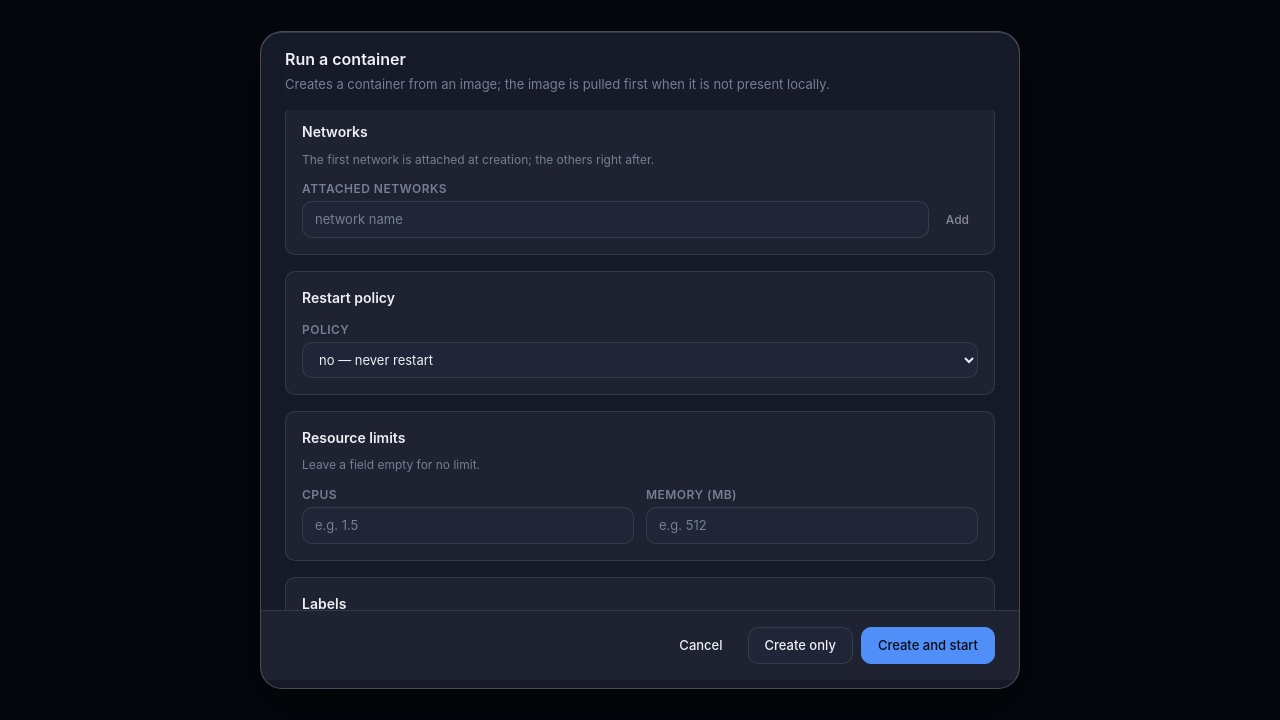
Test: ContainerCreateForm — configuration coverage (plan-docker_management_app/REQ-27) › offers a maximum-retries field only for the on-failure restart policy
The width and height of the screenshot is (1280, 720).
(page scrolled)
Select "on-failure — restart on a non-zero exit" in the dropdown named "Restart policy": (640, 360) x1=302 y1=342 x2=978 y2=378
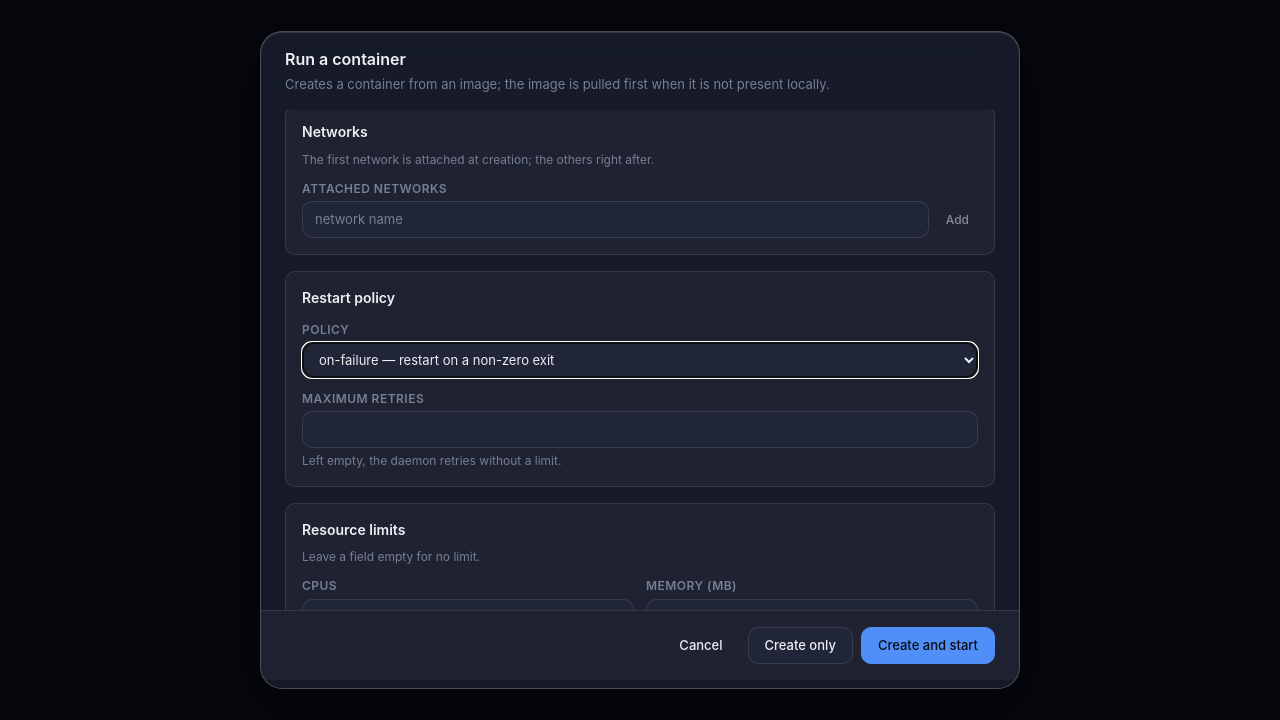
Expected: the number field named "Maximum retry count" is shown, x1=302 y1=411 x2=978 y2=448
